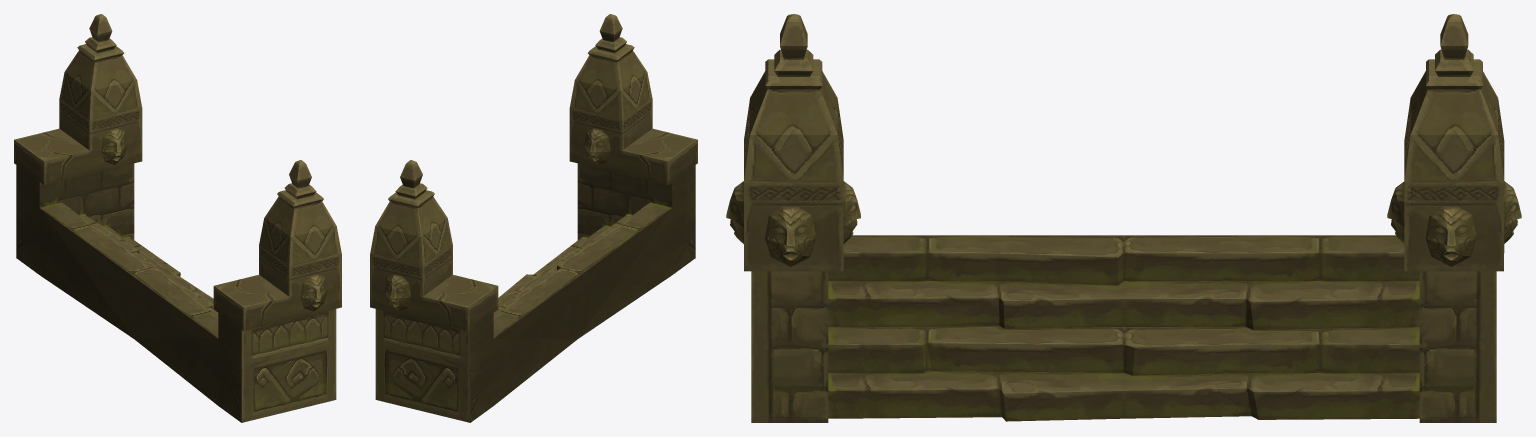
Rendered from stone_bridge_01.fbx.
3 views of the same model, side by side, from view 1: azimuth 30°, elevation 25°; view 2: azimuth 150°, elevation 25°; view 3: azimuth 270°, elevation 25° (orthographic). The views are drawn at different scales.
Visible parts, largest first — view 1: obj1.031; view 2: obj1.031; view 3: obj1.031.
Boxes of the visible parts, bbox=[...] form: obj1.031: bbox=[14, 14, 341, 422]; obj1.031: bbox=[370, 14, 697, 422]; obj1.031: bbox=[726, 14, 1521, 422].
Size of the model in its own units: 1.65 by 3.47 by 6.4.
